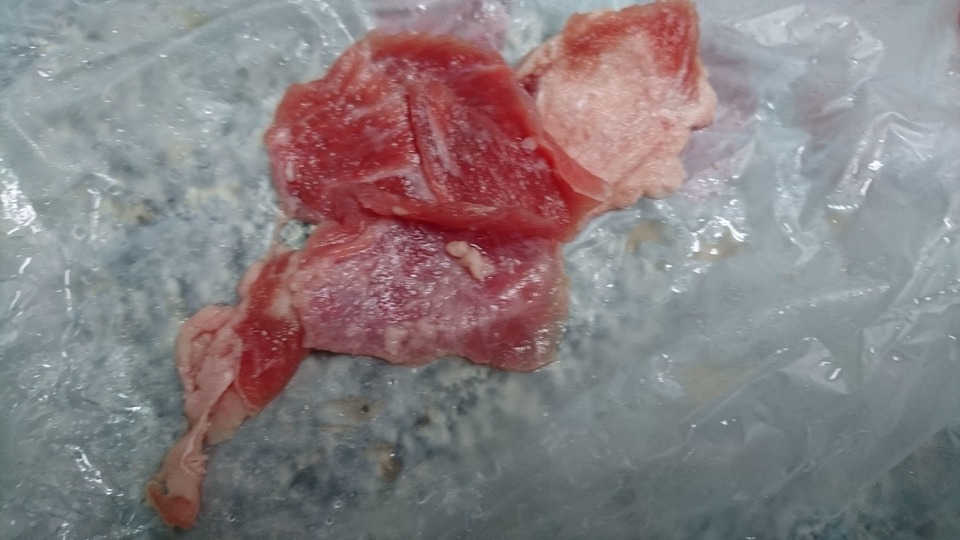restructured meat: (162, 7, 711, 540)
